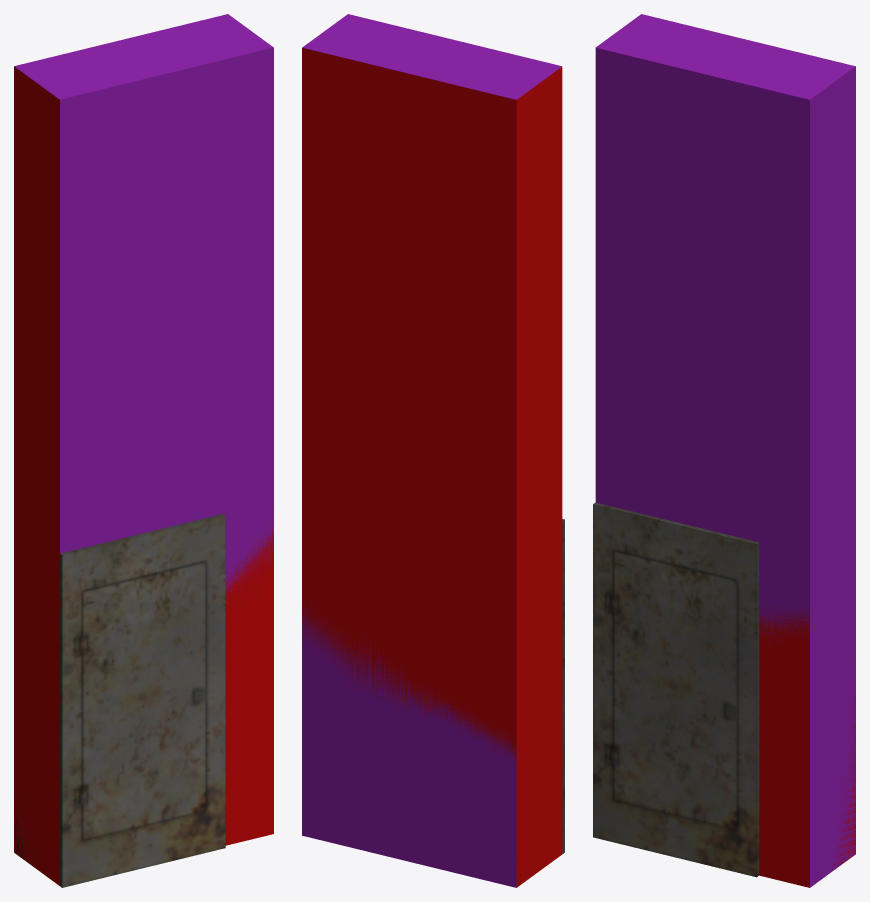
The model's file is SciFi_fusebox_01.DAE.
3 renders of one model, left to right at view 1: azimuth 30°, elevation 25°; view 2: azimuth 150°, elevation 25°; view 3: azimuth 330°, elevation 25°, orthographic.
Visible parts, largest first — view 1: bounds, fuse_box_one, colbox-01; view 2: colbox-01, bounds, fuse_box_one; view 3: bounds, fuse_box_one, colbox-01.
Boxes of the visible parts, x1,y1,x2,y2 form: bounds: (14,14,273,601); fuse_box_one: (15,514,225,887); colbox-01: (14,66,273,885); colbox-01: (302,47,562,887); bounds: (302,14,561,887); fuse_box_one: (518,519,564,886); bounds: (595,14,855,887); fuse_box_one: (593,502,759,877); colbox-01: (759,111,855,887).
Bounding box in the file's own units: 76.87 × 29.98 × 270.
